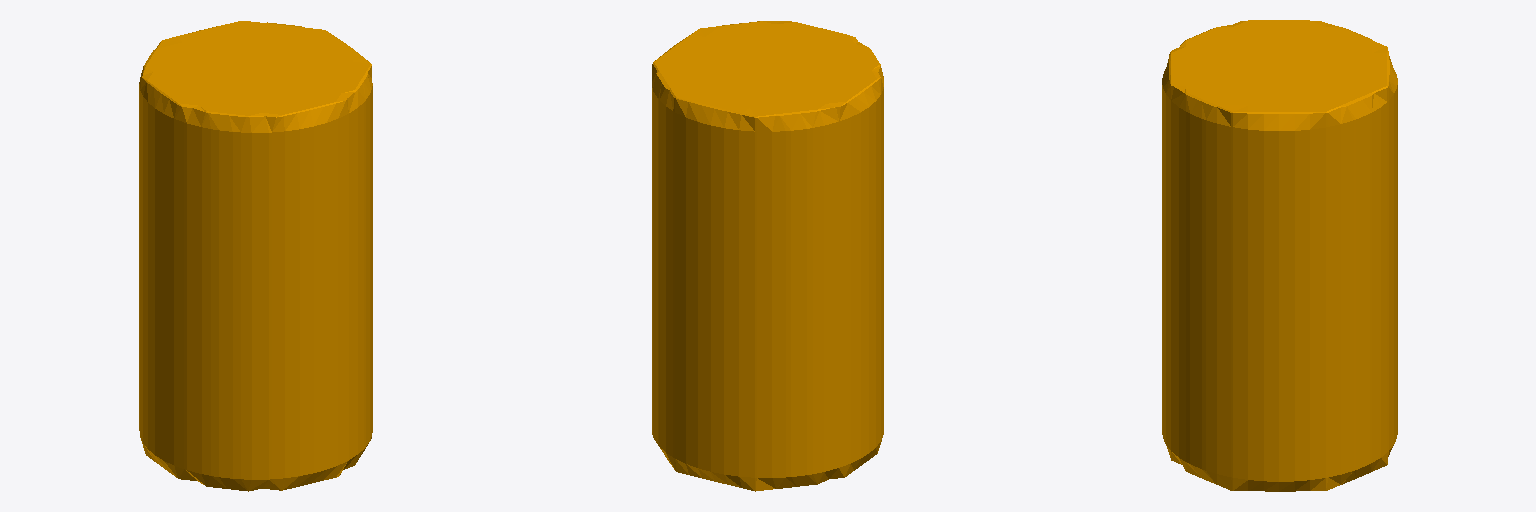
URDF robot description (cylinder_../../meshes/cylinders/cylinder_78.stl):
<?xml version="1.0" encoding="utf-8"?>  <robot name="cylinder_../../meshes/cylinders/cylinder_78.stl">   <link name="cylinder_../../meshes/cylinders/cylinder_78.stl">     <visual>       <geometry>         <mesh filename="../meshes/cylinders/cylinder_78.stl" scale="1 1 1"/>       </geometry>     </visual>     <collision>       <geometry>         <mesh filename="../meshes/cylinders/cylinder_78.stl" scale="1 1 1"/>       </geometry>     </collision>     <inertial>        <origin         xyz="0 0 0"         rpy="0 0 0" />       <mass value="0.614159618349355"/>       <origin rpy="0 0 0" xyz="0 0 0"/>       <inertia ixx="0.0011527566798481415" ixy="1.171218415433718e-08" ixz="2.375131884757504e-08" iyy="0.0011527559781180875" iyz="-3.159907940823718e-09" izz="0.0004436861174329584"/>     </inertial>   </link>  </robot>

--- What the picture shows (computed from the rendered views, not written in the file) ---
The picture shows the robot from 3 angles, left to right: view 1: azimuth 30°, elevation 25°; view 2: azimuth 150°, elevation 25°; view 3: azimuth 270°, elevation 25°; orthographic projection.
Model cylinder_../../meshes/cylinders/cylinder_78.stl with 1 links and 0 joints (none), rooted at cylinder_../../meshes/cylinders/cylinder_78.stl, posed all joints at 0.
Links seen in each view (by area): view 1: cylinder_../../meshes/cylinders/cylinder_78.stl; view 2: cylinder_../../meshes/cylinders/cylinder_78.stl; view 3: cylinder_../../meshes/cylinders/cylinder_78.stl.
Boxes of the visible links, x1=… form: cylinder_../../meshes/cylinders/cylinder_78.stl: x1=139, y1=21, x2=372, y2=491; cylinder_../../meshes/cylinders/cylinder_78.stl: x1=652, y1=21, x2=883, y2=491; cylinder_../../meshes/cylinders/cylinder_78.stl: x1=1162, y1=20, x2=1397, y2=491.
Size in the robot's own frame: 0.0763 by 0.0763 by 0.1353 metres.
1 mesh visuals loaded from 1 distinct referenced files (1 binary STL).